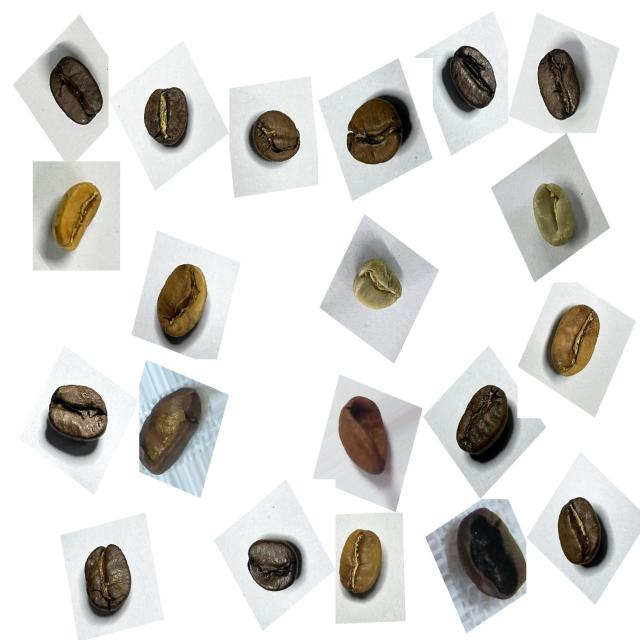bad: (447, 501, 536, 611), (134, 374, 216, 488), (323, 385, 401, 488)
dark: (37, 372, 120, 464), (439, 35, 509, 122), (239, 522, 310, 605)
green: (514, 172, 591, 260), (341, 246, 412, 328)
light: (533, 292, 615, 391), (148, 246, 225, 351), (36, 168, 112, 268), (325, 517, 395, 608)
medium: (334, 84, 420, 182), (445, 376, 527, 474), (70, 532, 148, 628), (37, 49, 113, 139), (547, 490, 619, 579), (526, 39, 596, 130), (134, 77, 202, 156), (243, 100, 309, 178)
